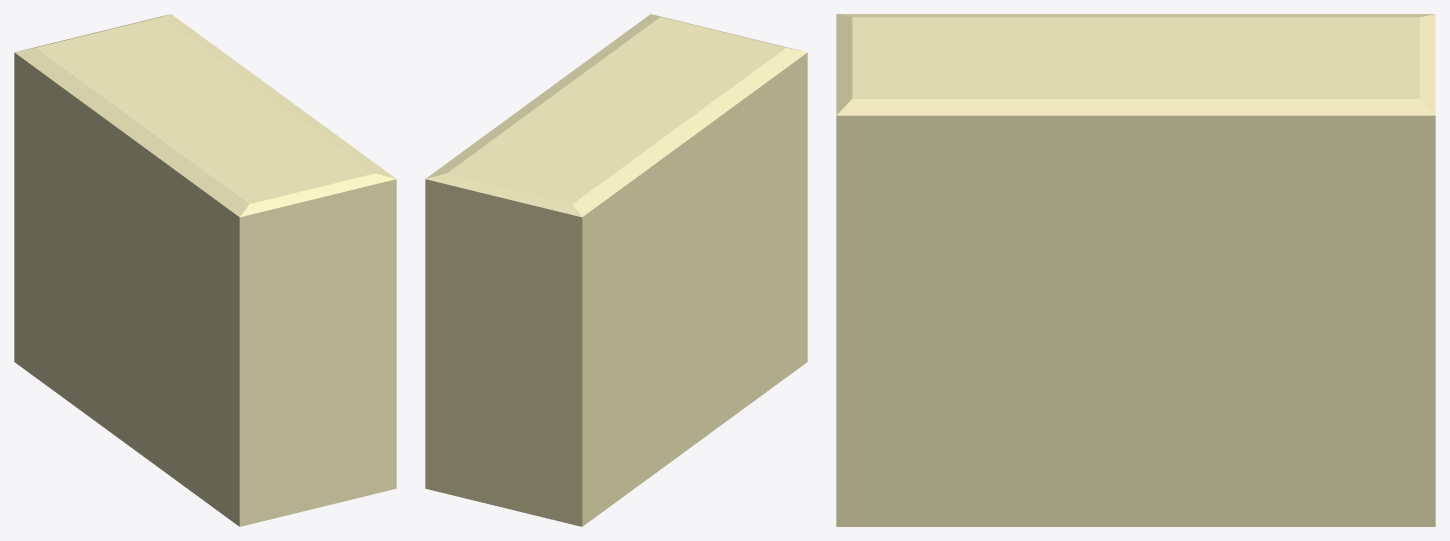
File: Itr_Couch_Outside_Side_02.FBX
The picture shows the model from 3 angles, left to right: view 1: azimuth 30°, elevation 25°; view 2: azimuth 150°, elevation 25°; view 3: azimuth 270°, elevation 25°; orthographic projection. The views are drawn at different scales.
Parts seen in each view (by area): view 1: Itr_Couch_Outside_Side_02; view 2: Itr_Couch_Outside_Side_02; view 3: Itr_Couch_Outside_Side_02.
Boxes of the visible parts, left/top/right/bottom form: Itr_Couch_Outside_Side_02: left=14, top=14, right=396, bottom=526; Itr_Couch_Outside_Side_02: left=425, top=14, right=807, bottom=526; Itr_Couch_Outside_Side_02: left=836, top=14, right=1435, bottom=526.
Size of the model in its own units: 13.12 by 25.52 by 32.64.
